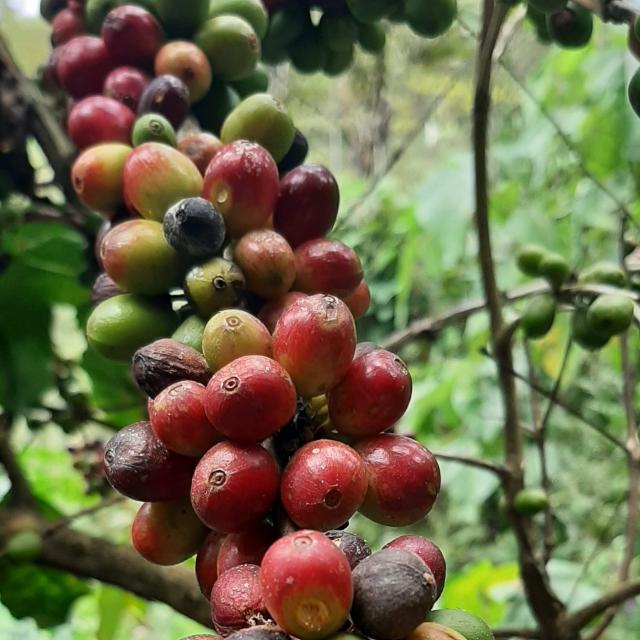green: (86, 294, 178, 361), (193, 13, 260, 81), (66, 94, 135, 149), (56, 34, 113, 98), (209, 0, 268, 38), (102, 65, 149, 111), (426, 610, 495, 640), (156, 0, 209, 37), (131, 113, 177, 147), (171, 314, 206, 353)
red: (190, 441, 280, 535), (280, 440, 368, 532), (204, 355, 297, 442), (351, 550, 437, 640), (103, 423, 198, 503), (148, 381, 223, 458), (274, 163, 340, 248), (130, 339, 211, 399), (210, 565, 269, 638), (100, 3, 164, 70), (383, 536, 447, 602), (162, 196, 226, 258), (184, 257, 246, 318), (217, 524, 278, 577), (137, 74, 190, 128), (324, 531, 372, 571), (277, 128, 309, 178), (224, 626, 292, 640)
yellow: (260, 531, 353, 640), (272, 295, 356, 398), (354, 434, 441, 528), (202, 139, 279, 238), (328, 350, 413, 438), (99, 219, 189, 295), (122, 142, 203, 221), (130, 498, 209, 567), (220, 93, 294, 162), (202, 309, 273, 373), (234, 229, 296, 300), (71, 142, 131, 215), (292, 238, 363, 297), (153, 40, 212, 102), (257, 292, 308, 334), (195, 532, 226, 601), (177, 132, 223, 175), (404, 623, 467, 640)
